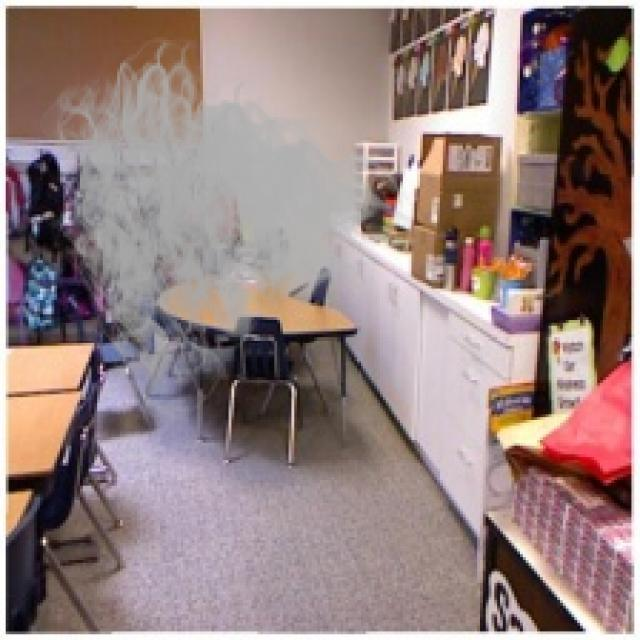Smoke: (32, 26, 414, 428)
